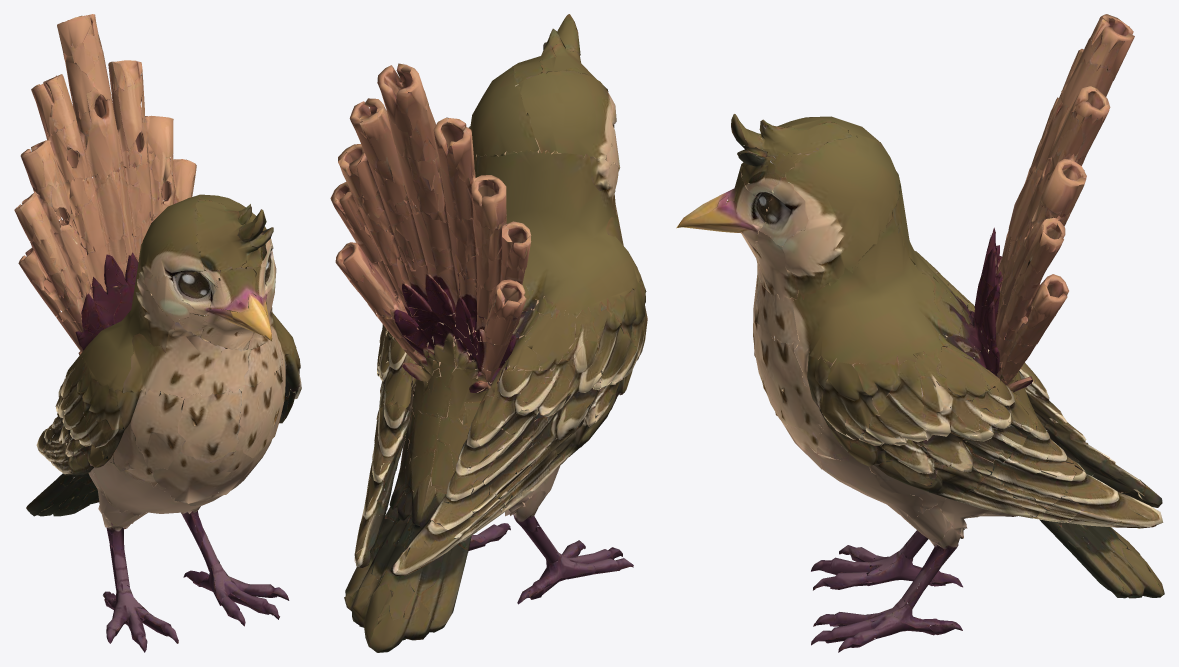
3 views of the same model, side by side, from view 1: azimuth 30°, elevation 25°; view 2: azimuth 150°, elevation 25°; view 3: azimuth 270°, elevation 25° (orthographic). The views are drawn at different scales.
Parts seen in each view (by area): view 1: Mesh_0; view 2: Mesh_0; view 3: Mesh_0.
Part boxes in pixels (<box>): Mesh_0: <box>14,14,301,652</box>; Mesh_0: <box>330,14,647,652</box>; Mesh_0: <box>676,14,1164,652</box>.
Size of the model in its own units: 0.7811 by 1.9 by 1.42.
Materials: 1 (1 with a texture image).
